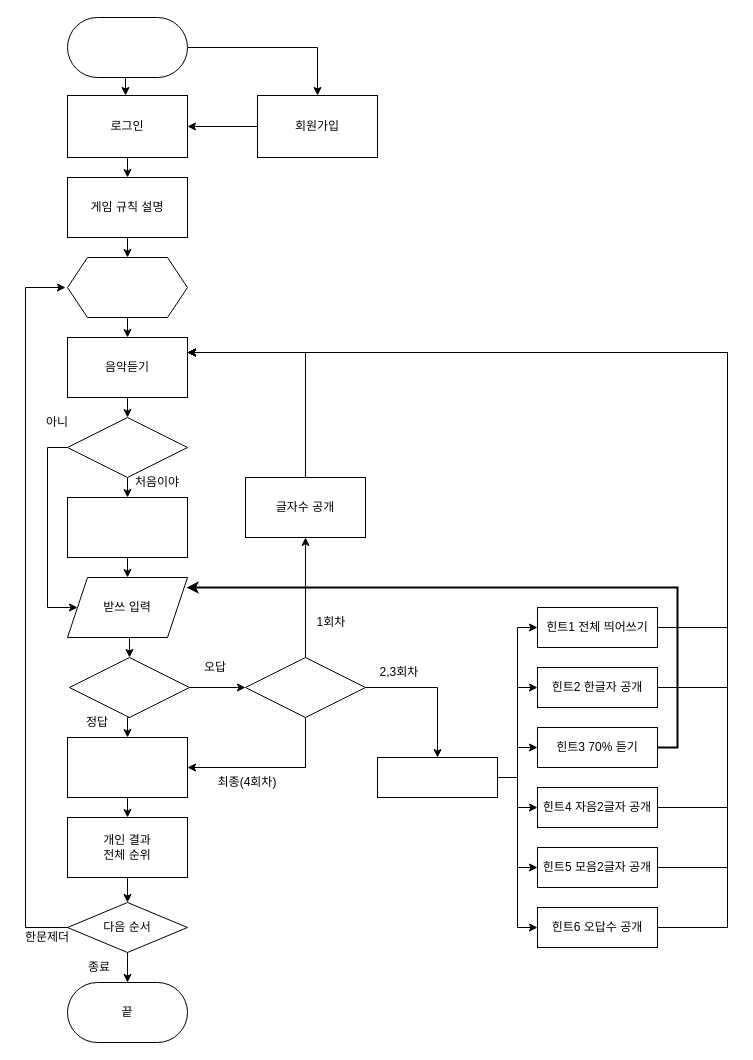
Some shapes in this 753 by 1060 pixel diagram are drawn without their labels. Here are the shapes that lost their labels. From the top down, the centre of each, then its label:
At point 127,47: "시작".
At point 127,287: "음악 랜덤 선택".
At point 127,447: "처음 듣니?".
At point 127,527: "기본 힌트 선택".
At point 129,687: "정답확인".
At point 305,687: "횟수".
At point 127,767: "정답 출력".
At point 437,777: "힌트 선택".
